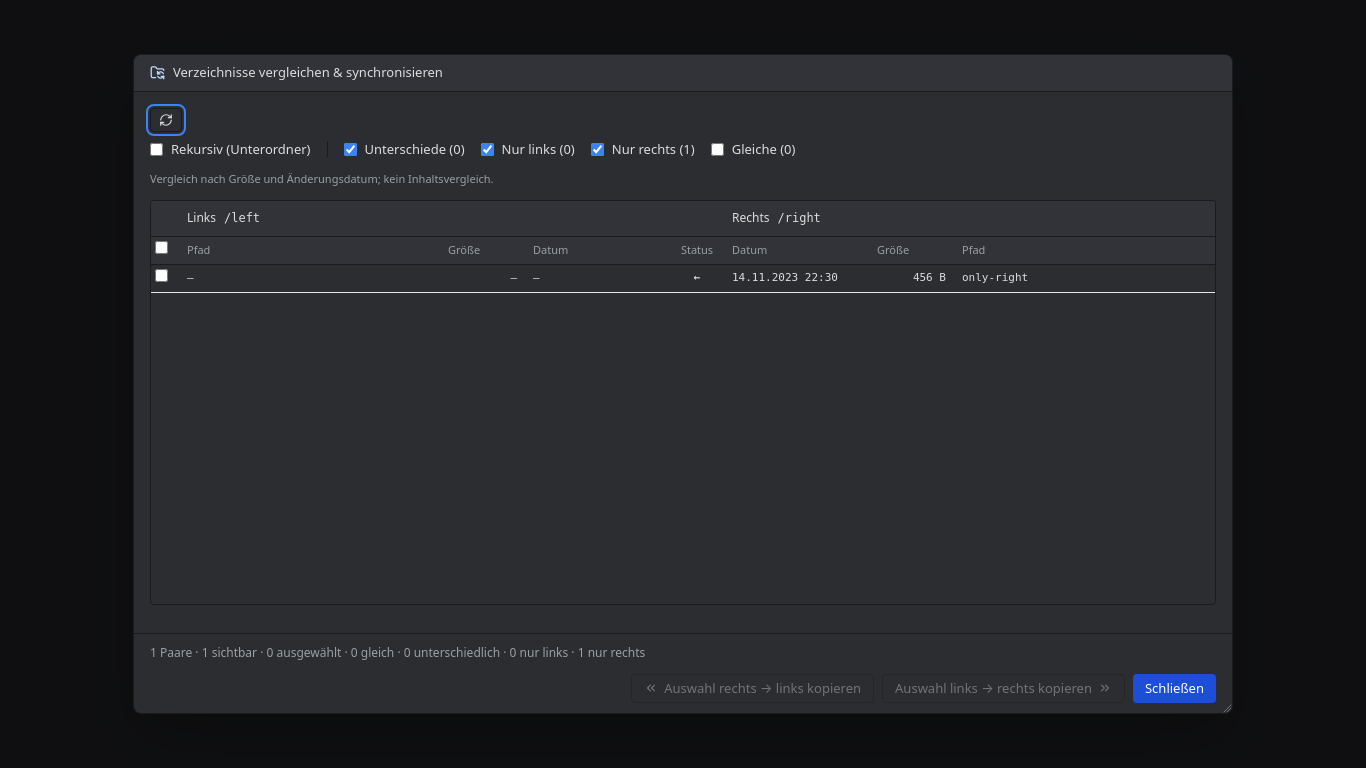
copies in the reverse direction and reports backend errors without an unhandled rejection
Expected: the checkbox named "only-right" is shown, 155,269 -> 168,282
Click the checkbox named "Alle sichtbaren wählen".
click(162, 248)  # box 155,241 -> 168,254
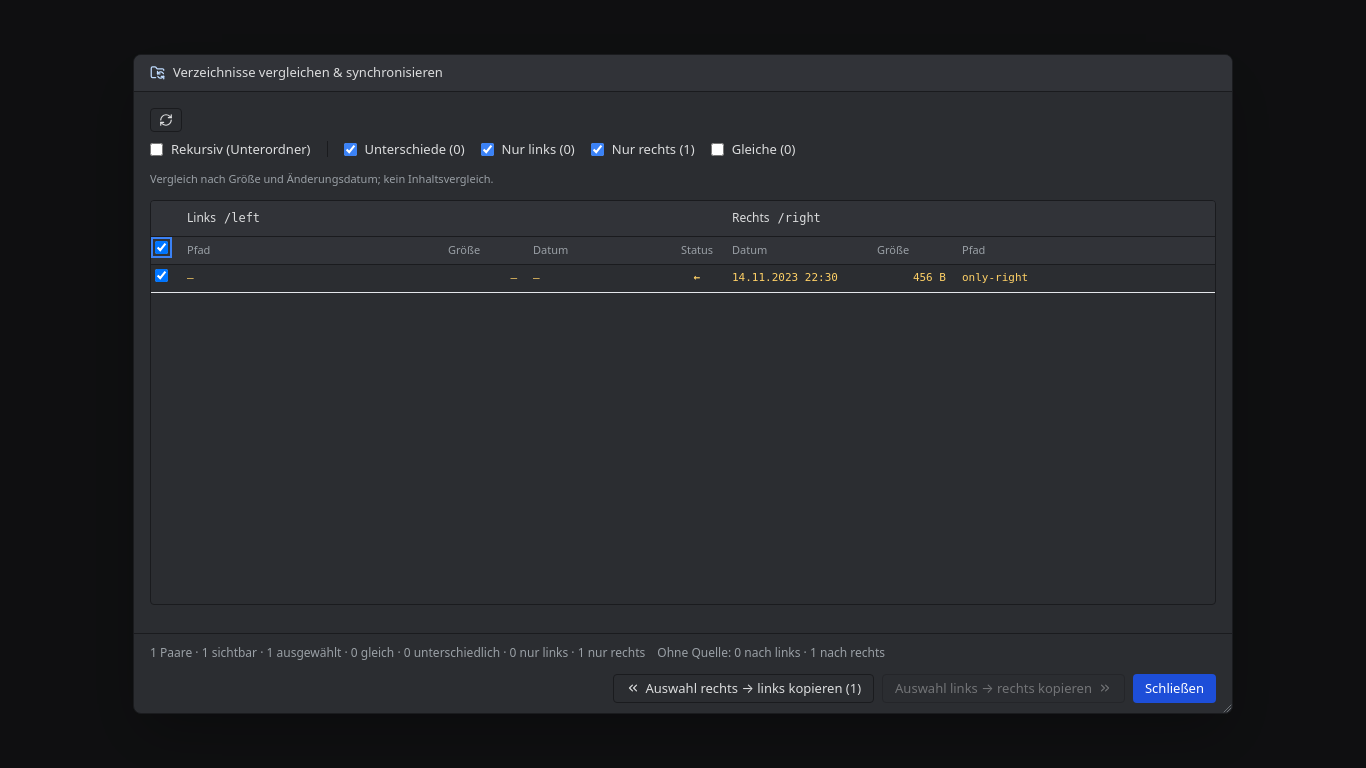
Expected: the button "Auswahl links → rechts kopieren" is disabled, 882,674 -> 1125,703
Click the button "Auswahl rechts → links kopieren (1)".
click(743, 688)  # box 612,674 -> 874,703
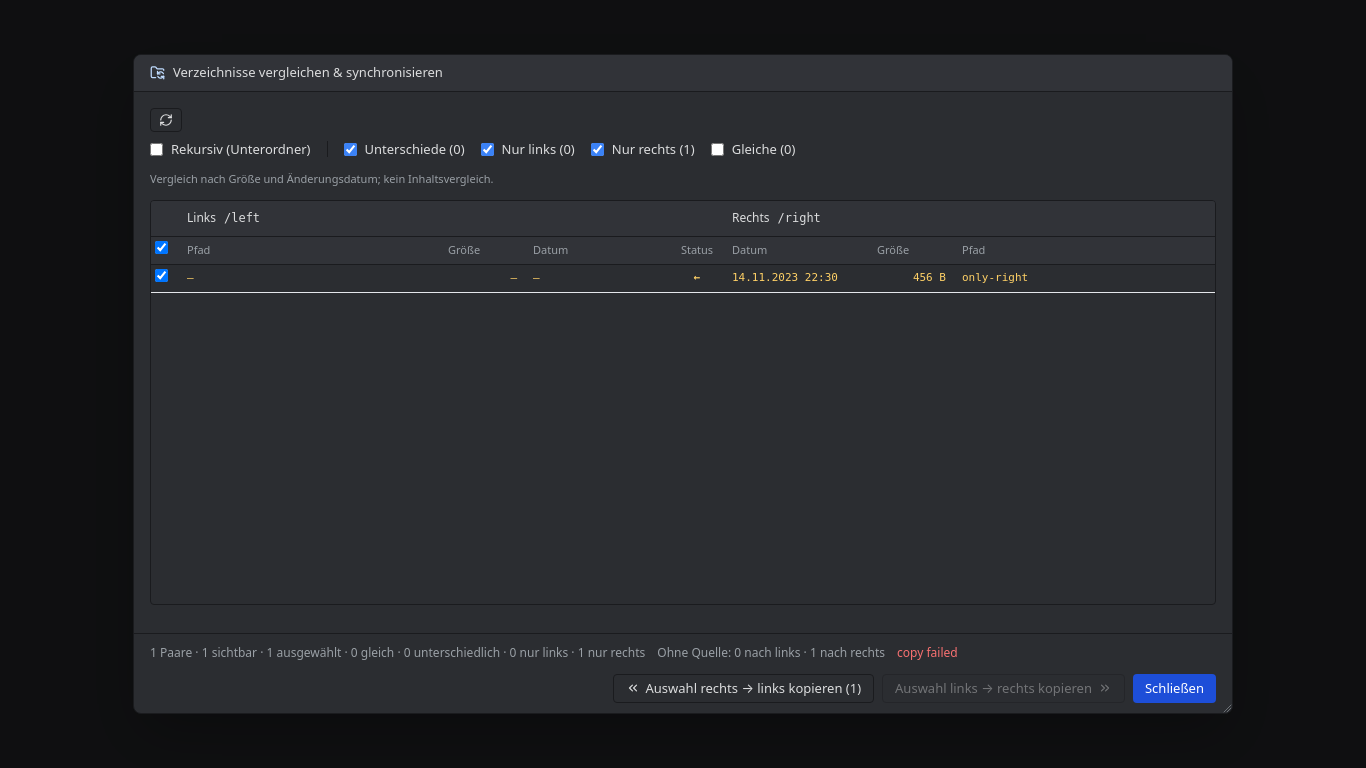
Now the text "copy failed" is shown, box 897,644 -> 958,662
